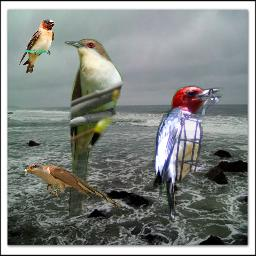Cuckoo: (64, 38, 124, 216), (21, 163, 123, 208)
Swallow: (18, 19, 56, 73)
Woodpecker: (153, 85, 225, 225)
